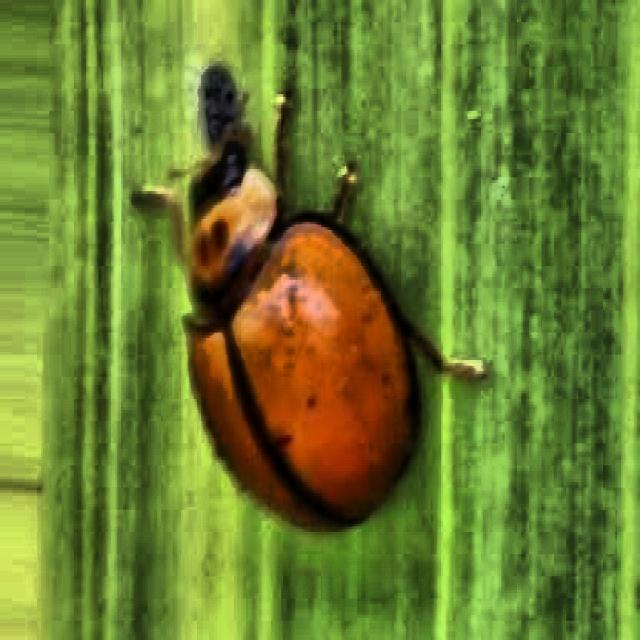Ladybug: (123, 48, 483, 584)
